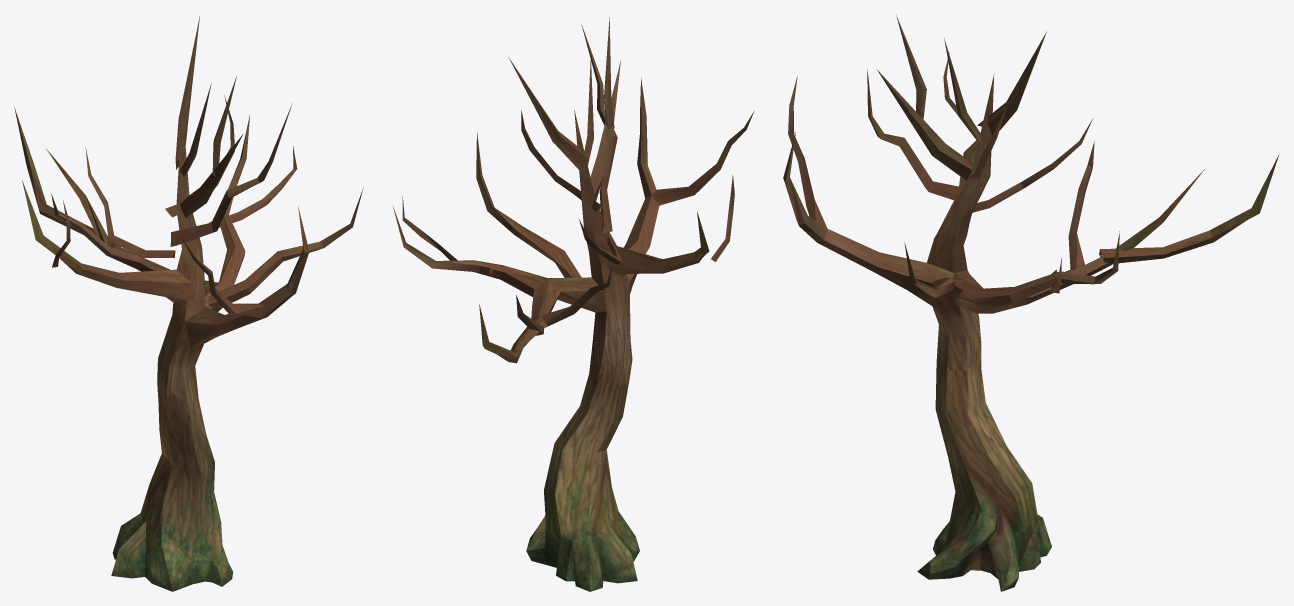
File: Yland1_sg_08 Yland1.FBX
3 renders of one model, left to right at view 1: azimuth 30°, elevation 25°; view 2: azimuth 150°, elevation 25°; view 3: azimuth 270°, elevation 25°, orthographic. The views are drawn at different scales.
Visible parts, largest first — view 1: Yland1_sg_08 Yland1; view 2: Yland1_sg_08 Yland1; view 3: Yland1_sg_08 Yland1.
Boxes of the visible parts, x1,y1,x2,y2 form: Yland1_sg_08 Yland1: [14, 16, 363, 591]; Yland1_sg_08 Yland1: [392, 17, 754, 591]; Yland1_sg_08 Yland1: [783, 15, 1279, 591].
Bounding box in the file's own units: 2.65 × 4.58 × 3.67.
